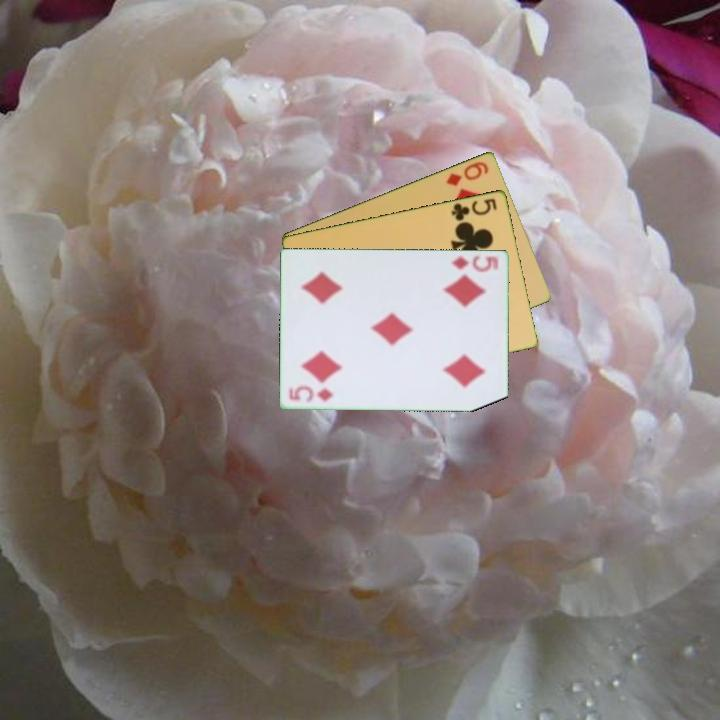5c: (448, 194, 500, 224)
5d: (448, 251, 502, 274), (286, 383, 336, 405)
6d: (442, 158, 492, 188)
